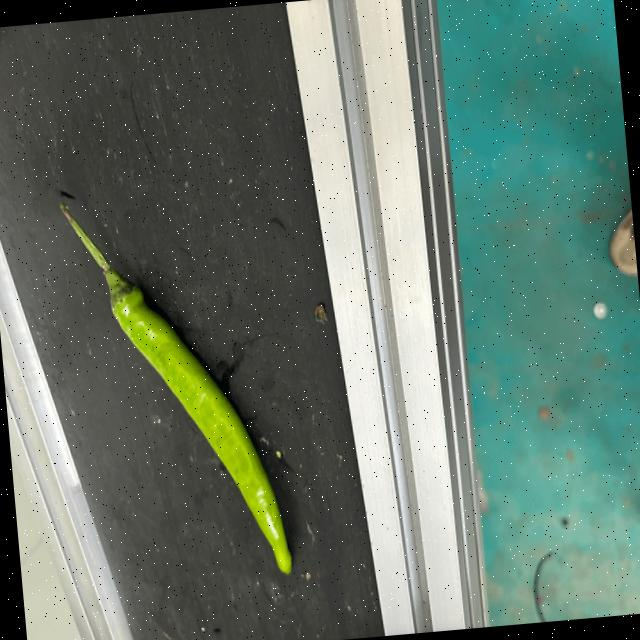chili: (108, 276, 291, 576)
